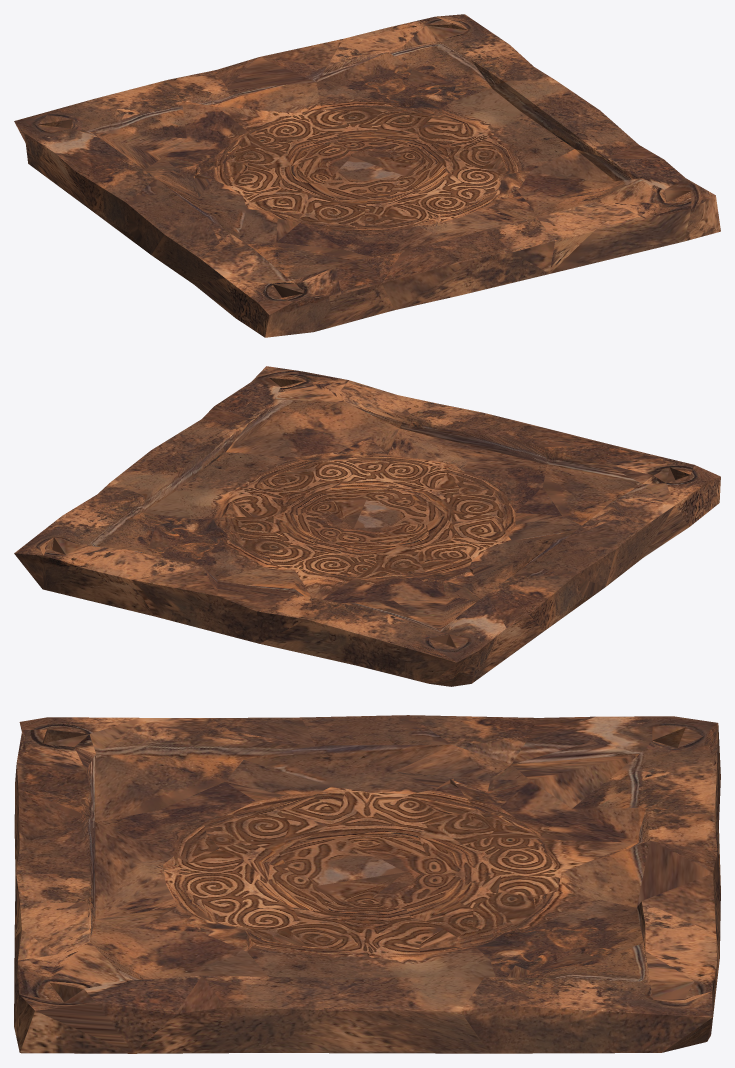
The model's file is copper_plate_a.glb.
3 renders of one model, top to bottom at view 1: azimuth 30°, elevation 25°; view 2: azimuth 150°, elevation 25°; view 3: azimuth 270°, elevation 25°, orthographic. The views are drawn at different scales.
Parts seen in each view (by area): view 1: mesh_node; view 2: mesh_node; view 3: mesh_node.
Part boxes in pixels (bbox=[...]): mesh_node: bbox=[14, 14, 720, 337]; mesh_node: bbox=[14, 366, 720, 686]; mesh_node: bbox=[14, 715, 720, 1053].
Bounding box in the file's own units: 1.89 × 0.1657 × 1.89.
1 material, 1 textured.
